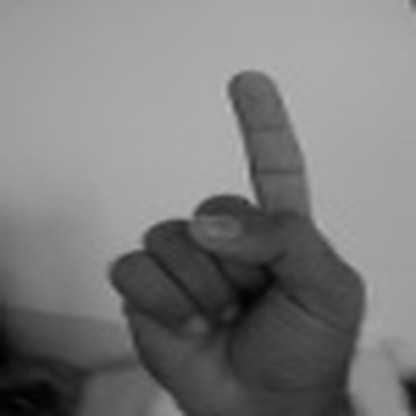d: (100, 64, 371, 405)
